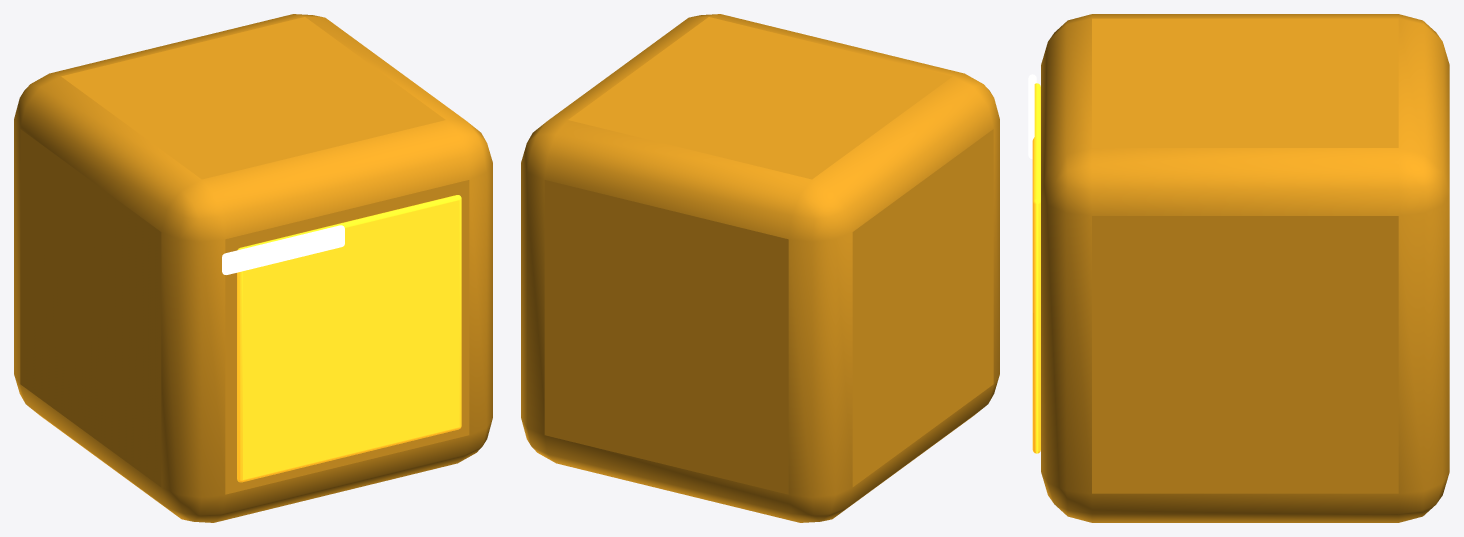
File: kostka_l.glb
The picture shows the model from 3 angles, left to right: view 1: azimuth 30°, elevation 25°; view 2: azimuth 150°, elevation 25°; view 3: azimuth 270°, elevation 25°; orthographic projection. The views are drawn at different scales.
Visible parts, largest first — view 1: kostka_l_m, kostka_l_lesk, kostka_l_hrana; view 2: kostka_l_m; view 3: kostka_l_m, kostka_l_lesk, kostka_l_hrana.
Boxes of the visible parts, left/top/right/bottom form: kostka_l_m: left=14, top=14, right=492, bottom=522; kostka_l_lesk: left=237, top=195, right=461, bottom=482; kostka_l_hrana: left=222, top=225, right=344, bottom=274; kostka_l_m: left=521, top=14, right=999, bottom=522; kostka_l_m: left=1041, top=14, right=1449, bottom=522; kostka_l_lesk: left=1032, top=83, right=1040, bottom=453; kostka_l_hrana: left=1028, top=74, right=1036, bottom=159.
Size of the model in its own units: 0.96 by 0.96 by 0.99.
